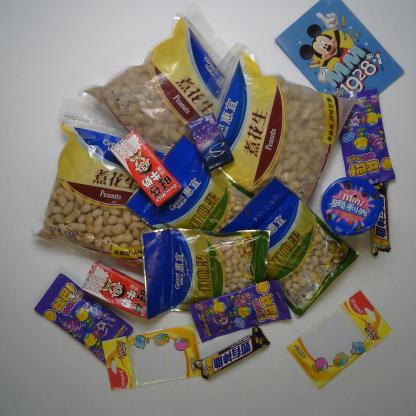Candy: (30, 272, 134, 368), (186, 278, 293, 342), (339, 88, 396, 186)
Chocolate: (193, 325, 272, 380), (368, 178, 392, 256)
Dessert: (319, 174, 384, 238)
Dried Food: (199, 42, 358, 214), (28, 96, 168, 277), (76, 1, 231, 152)
Dried Fruit: (213, 175, 362, 319), (122, 133, 256, 238), (139, 225, 272, 320)
Gum: (185, 112, 236, 172)
Milk: (106, 130, 183, 208), (81, 263, 149, 323)
Stationery: (275, 0, 405, 96), (285, 289, 394, 391), (100, 321, 205, 394)
